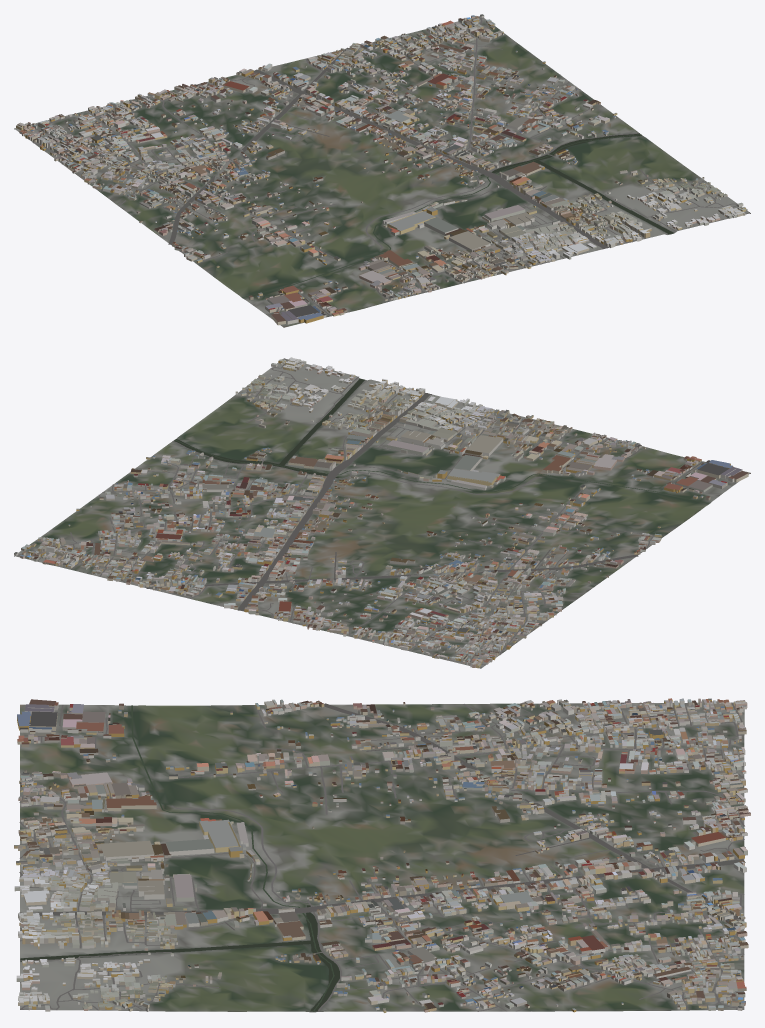
3 views of the same model, one above another, from view 1: azimuth 30°, elevation 25°; view 2: azimuth 150°, elevation 25°; view 3: azimuth 270°, elevation 25° (orthographic). The views are drawn at different scales.
Visible parts, largest first — view 1: ground, buildings, roads, water; view 2: ground, buildings, roads, water; view 3: ground, buildings, roads, water.
Part boxes in pixels (left/top/right/bottom): ground: left=14, top=16, right=750, bottom=327; buildings: left=16, top=14, right=747, bottom=325; roads: left=23, top=16, right=750, bottom=316; water: left=242, top=133, right=673, bottom=297; ground: left=14, top=358, right=750, bottom=668; buildings: left=14, top=357, right=748, bottom=668; roads: left=17, top=358, right=734, bottom=665; water: left=174, top=378, right=708, bottom=503; ground: left=20, top=702, right=744, bottom=1012; buildings: left=14, top=698, right=750, bottom=1012; roads: left=19, top=702, right=745, bottom=1011; water: left=20, top=705, right=339, bottom=1011.
Size of the model in its own units: 1413 by 24.5 by 1425.
